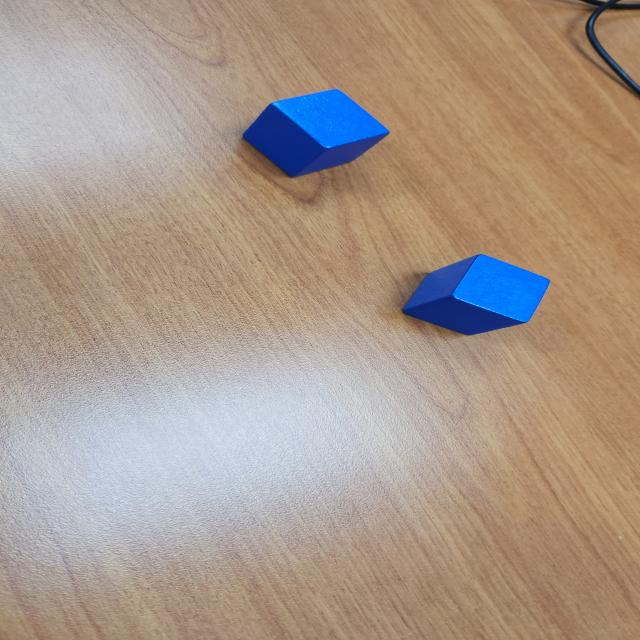blue: (240, 88, 390, 177), (400, 252, 550, 336)
